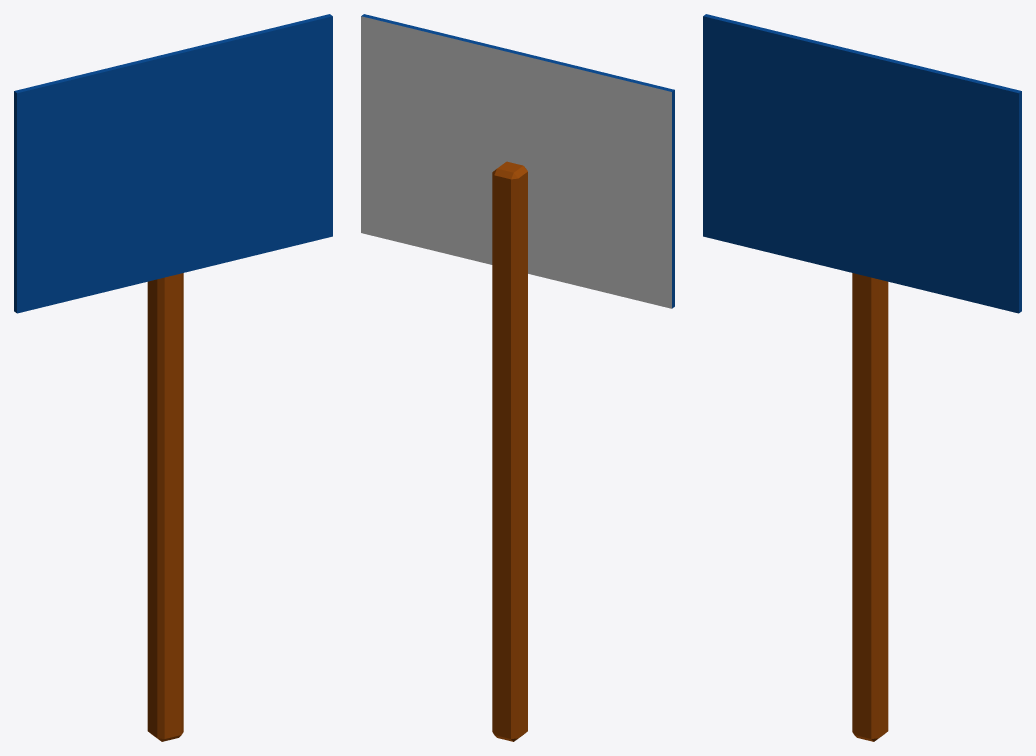
Rendered from znak3.fbx.
3 renders of one model, left to right at view 1: azimuth 30°, elevation 25°; view 2: azimuth 150°, elevation 25°; view 3: azimuth 330°, elevation 25°, orthographic.
Parts seen in each view (by area): view 1: Cube.001, Cube; view 2: Cube.001, Cube; view 3: Cube.001, Cube.
Part boxes in pixels (<box>): Cube.001: <box>14,14,332,313</box>; Cube: <box>147,273,183,741</box>; Cube.001: <box>361,14,674,308</box>; Cube: <box>492,161,527,741</box>; Cube.001: <box>703,14,1021,313</box>; Cube: <box>852,273,888,741</box>.
Bounding box in the file's own units: 120 × 250 × 11.2.
